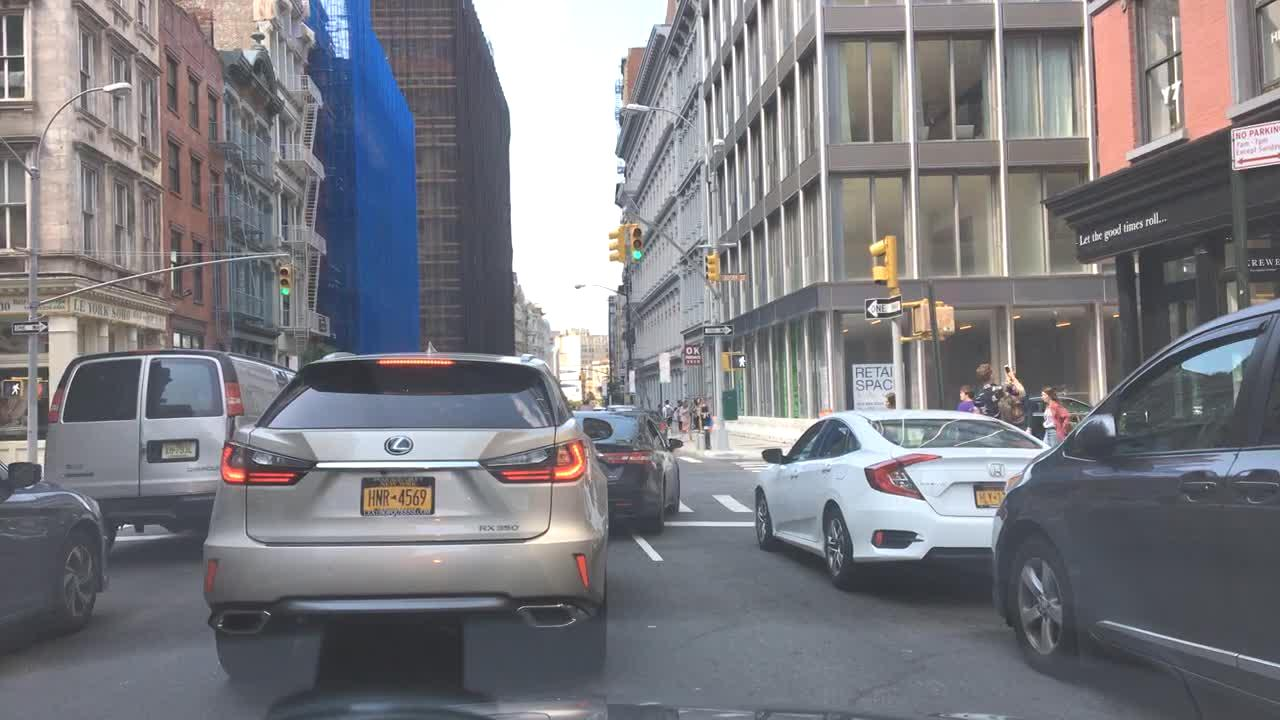Honda: (985, 460, 1008, 482)
lexus: (372, 430, 421, 464)
